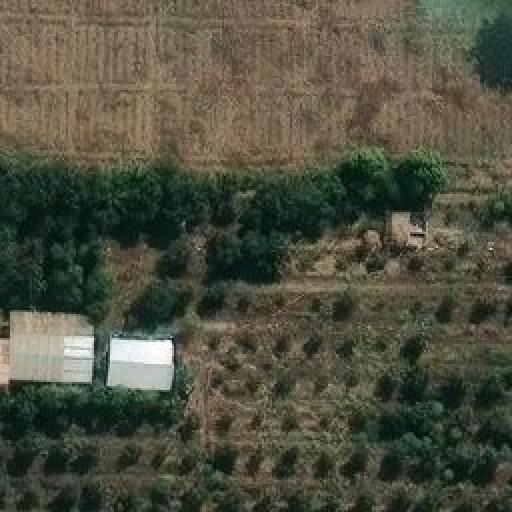manzanas: (0, 309, 179, 393)
